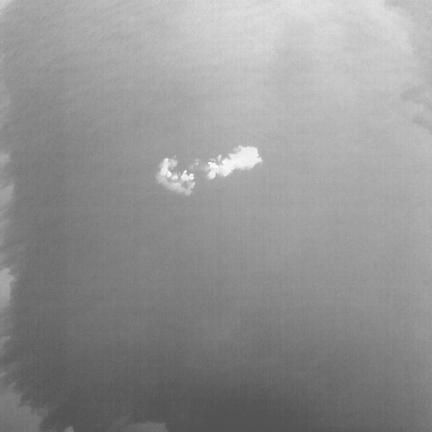flukeprints: (205, 146, 262, 179), (159, 159, 169, 176), (180, 170, 189, 181), (170, 173, 178, 181), (188, 174, 194, 181), (166, 170, 171, 177)
